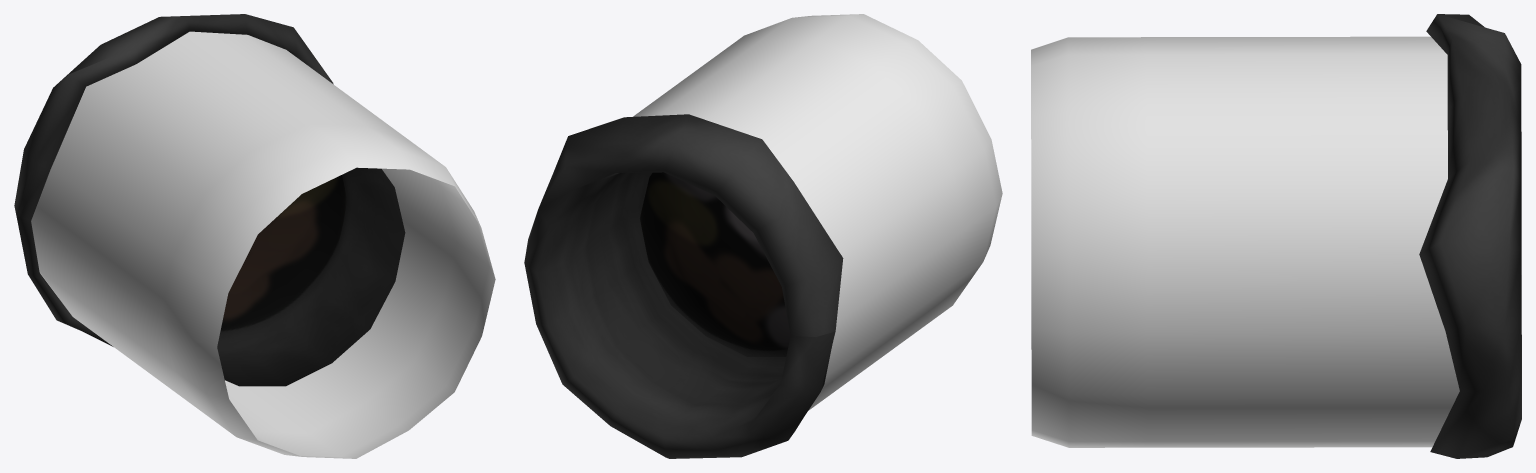
File: trashcan.fbx
The picture shows the model from 3 angles, left to right: view 1: azimuth 30°, elevation 25°; view 2: azimuth 150°, elevation 25°; view 3: azimuth 270°, elevation 25°; orthographic projection. The views are drawn at different scales.
Parts seen in each view (by area): view 1: Circle; view 2: Circle; view 3: Circle.
Part boxes in pixels (box(x1,y1,x2,y2)): Circle: box(14, 14, 495, 458); Circle: box(524, 14, 1002, 458); Circle: box(1031, 14, 1521, 458).
Size of the model in its own units: 212 by 215 by 234.
